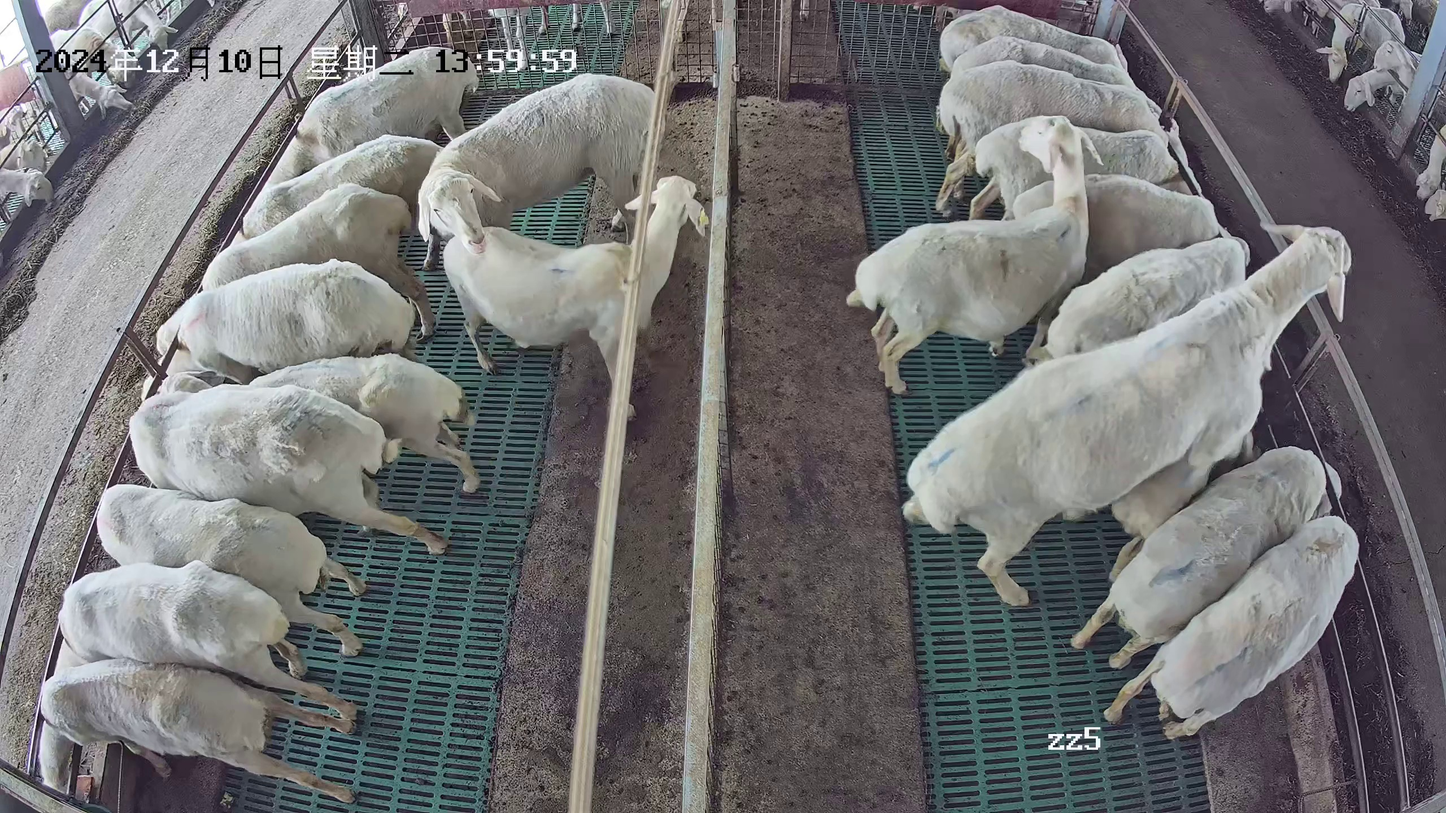Smounting: (901, 221, 1353, 607)
mounted: (1105, 420, 1256, 584)
